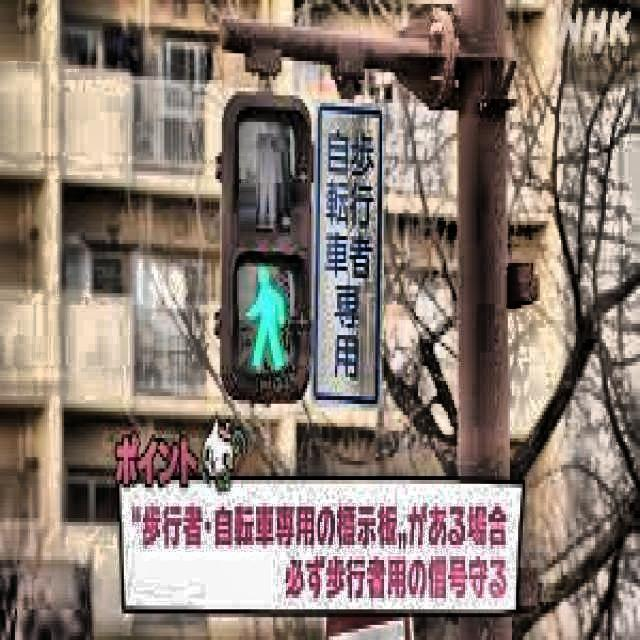semaforo pedestre: (167, 84, 355, 416)
